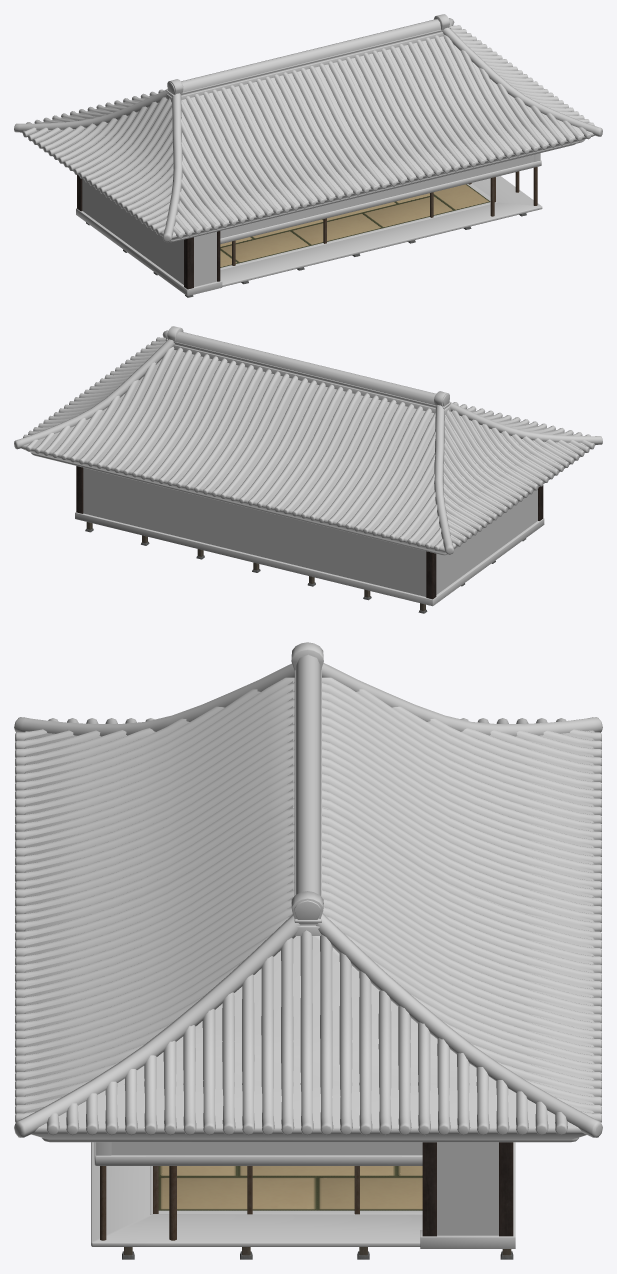
Rendered from House.fbx.
The picture shows the model from 3 angles, top to bottom: view 1: azimuth 30°, elevation 25°; view 2: azimuth 150°, elevation 25°; view 3: azimuth 270°, elevation 25°; orthographic projection. The views are drawn at different scales.
Parts seen in each view (by area): view 1: House_Roof1, House_Roof2, House_Wall, House_FloorAndCeiling, House_Tatami, House_Pillar; view 2: House_Roof1, House_Roof2, House_Wall, House_Pillar; view 3: House_Roof1, House_Roof2, House_Wall, House_FloorAndCeiling, House_Tatami, House_Pillar.
Part boxes in pixels (<box>): House_Roof1: <box>23,25,594,238</box>; House_Roof2: <box>14,14,602,242</box>; House_Wall: <box>76,153,541,296</box>; House_FloorAndCeiling: <box>220,176,542,286</box>; House_Tatami: <box>220,184,490,267</box>; House_Pillar: <box>77,167,537,297</box>; House_Roof1: <box>23,337,594,550</box>; House_Roof2: <box>14,326,602,555</box>; House_Wall: <box>75,467,544,606</box>; House_Pillar: <box>76,466,543,613</box>; House_Roof1: <box>15,642,601,1135</box>; House_Roof2: <box>14,654,602,1142</box>; House_Wall: <box>94,798,515,1248</box>; House_FloorAndCeiling: <box>91,806,422,1246</box>; House_Tatami: <box>158,1166,422,1210</box>; House_Pillar: <box>100,1142,513,1259</box>.
Size of the model in its own units: 24.85 by 9.35 by 15.06.
